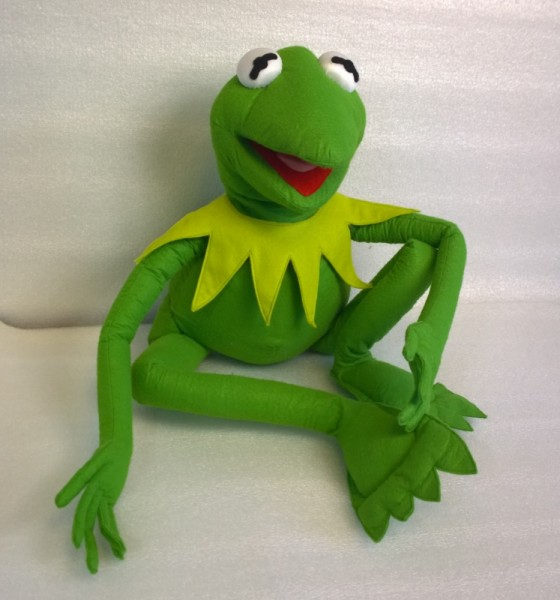kermit: (204, 43, 372, 221)
